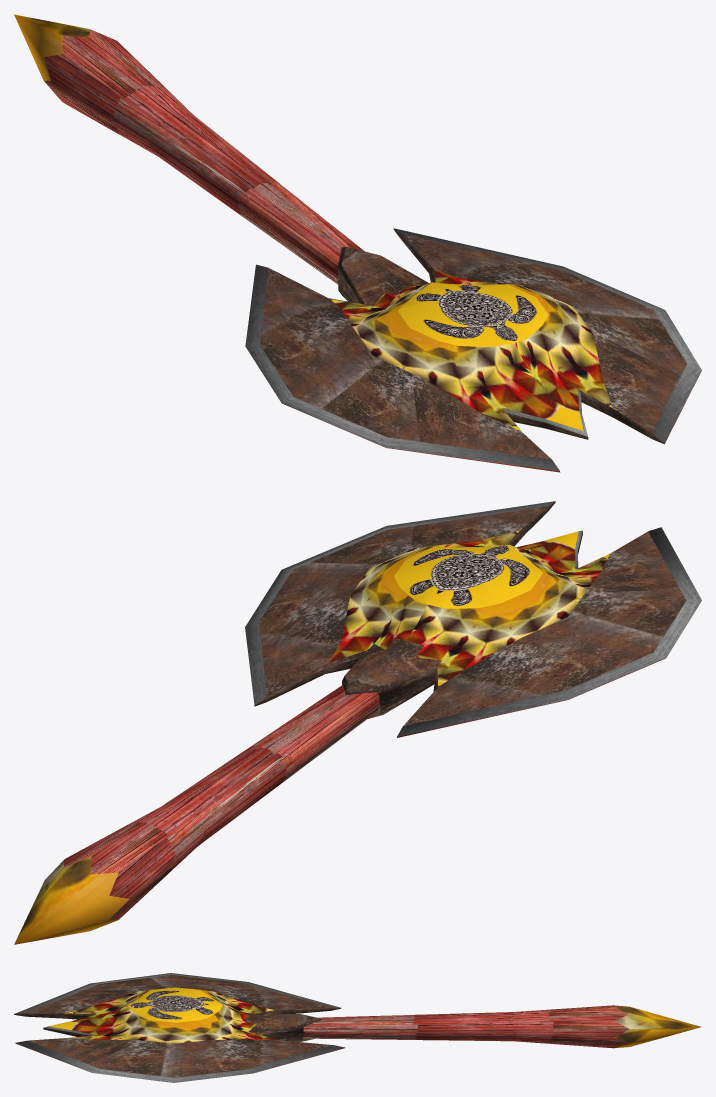
Rendered from Axe.fbx.
3 renders of one model, top to bottom at view 1: azimuth 30°, elevation 25°; view 2: azimuth 150°, elevation 25°; view 3: azimuth 270°, elevation 25°, orthographic. The views are drawn at different scales.
Visible parts, largest first — view 1: Handle001; view 2: Handle001; view 3: Handle001.
Boxes of the visible parts, box(x1,y1,x2,y2) form: Handle001: box(14, 14, 701, 472); Handle001: box(14, 501, 701, 944); Handle001: box(14, 973, 700, 1082).
Bounding box in the file's own units: 22.07 × 5 × 59.44.
